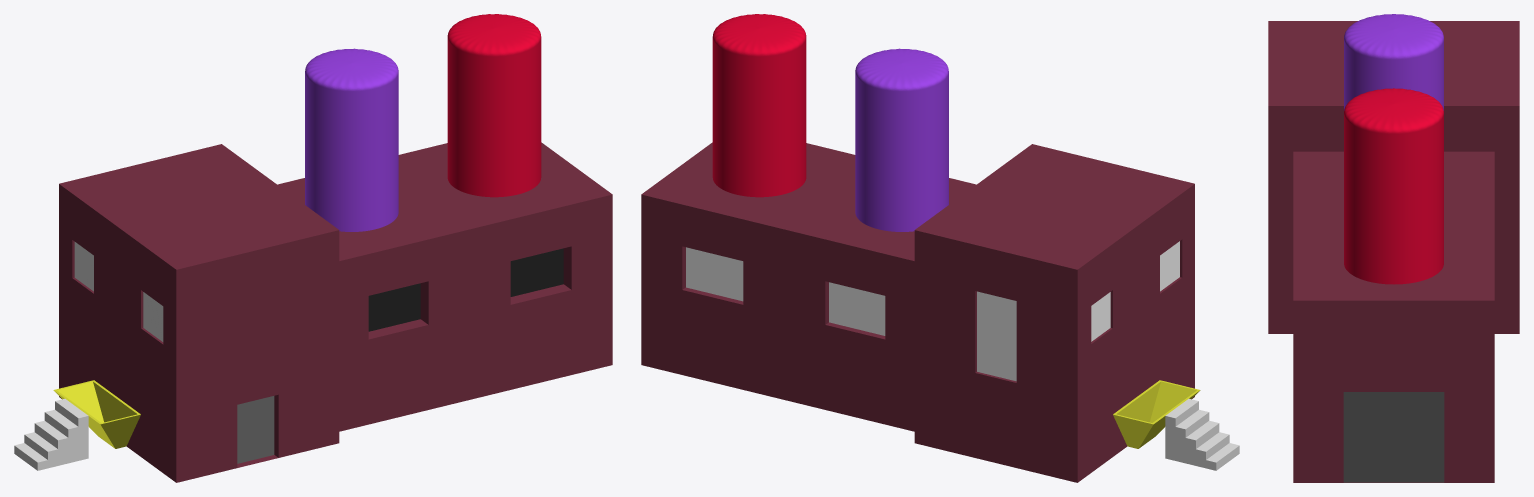
File: outbound.fbx
3 views of the same model, side by side, from view 1: azimuth 30°, elevation 25°; view 2: azimuth 150°, elevation 25°; view 3: azimuth 270°, elevation 25° (orthographic). The views are drawn at different scales.
Visible parts, largest first — view 1: building, storage r, storage b, Cube, input, door, display r, display b, window.002, window.003; view 2: building, storage r, storage b, Cube, window.004, input, window.006, window.005, window.002, window.003; view 3: building, storage r, bay door, storage b.
Part boxes in pixels (left/top/right/bottom): building: left=59, top=142, right=612, bottom=482; storage r: left=447, top=14, right=541, bottom=197; storage b: left=305, top=48, right=398, bottom=231; Cube: left=14, top=398, right=88, bottom=470; input: left=53, top=380, right=140, bottom=448; door: left=237, top=396, right=274, bottom=463; display r: left=510, top=248, right=563, bottom=296; display b: left=368, top=283, right=420, bottom=331; window.002: left=143, top=292, right=163, bottom=341; window.003: left=74, top=242, right=93, bottom=291; building: left=641, top=142, right=1194, bottom=482; storage r: left=712, top=14, right=806, bottom=197; storage b: left=855, top=48, right=948, bottom=231; Cube: left=1165, top=398, right=1239, bottom=470; window.004: left=977, top=291, right=1016, bottom=381; input: left=1113, top=380, right=1200, bottom=448; window.006: left=686, top=247, right=743, bottom=301; window.005: left=829, top=282, right=885, bottom=335; window.002: left=1160, top=241, right=1179, bottom=291; window.003: left=1091, top=292, right=1110, bottom=341; building: left=1268, top=21, right=1519, bottom=482; storage r: left=1344, top=88, right=1443, bottom=284; bay door: left=1343, top=392, right=1444, bottom=482; storage b: left=1344, top=14, right=1443, bottom=110.
Bounding box in the file's own units: 2650 × 1503 × 1000.
